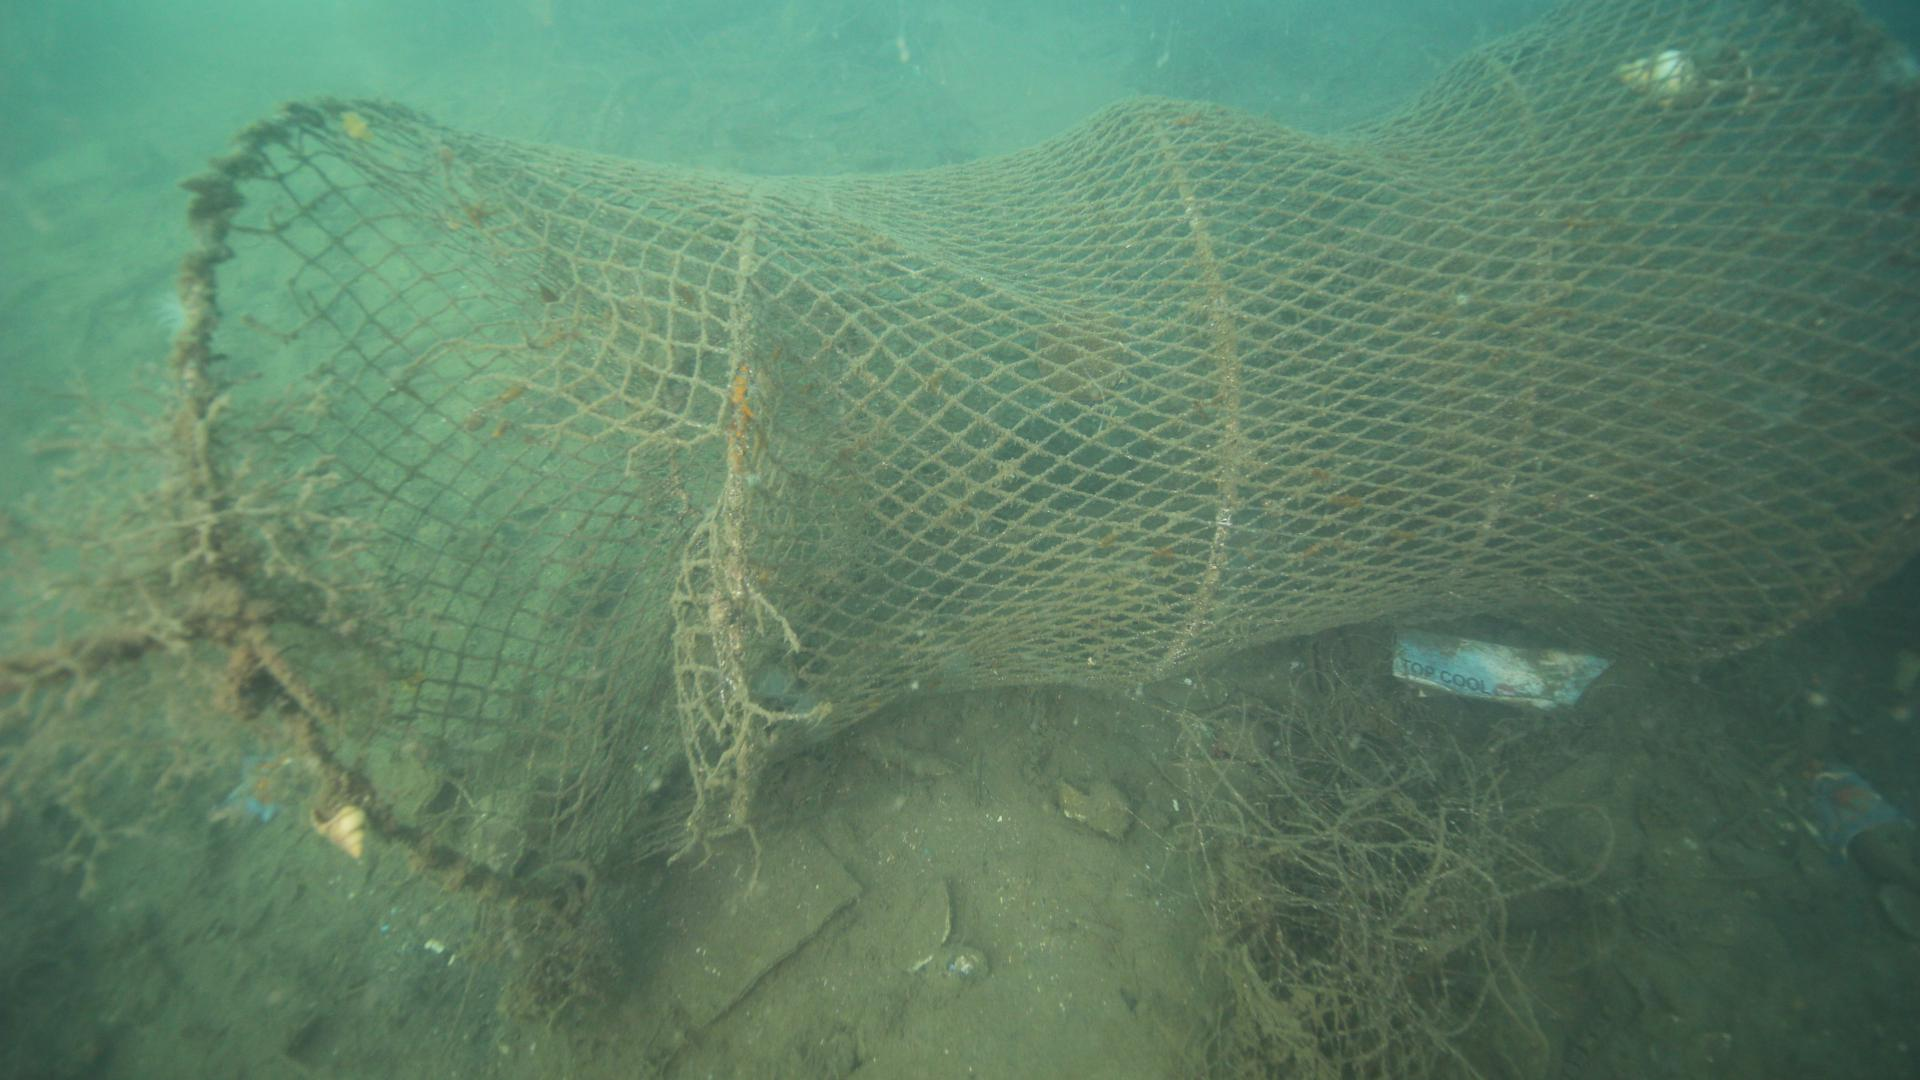spring fish trap: (160, 0, 1920, 895)
